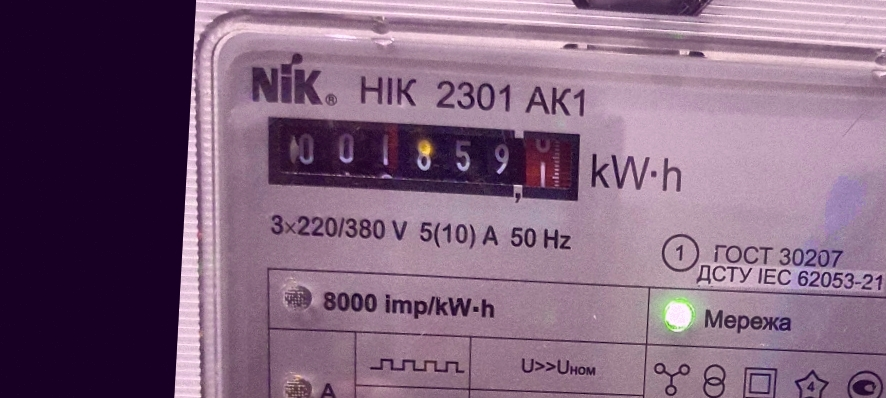0: (295, 130, 317, 167), (335, 130, 356, 164)
1: (378, 131, 392, 167), (535, 158, 549, 189)
5: (452, 136, 474, 173)
8: (413, 136, 434, 172)
9: (490, 140, 511, 176)
screen: (253, 103, 592, 212)
